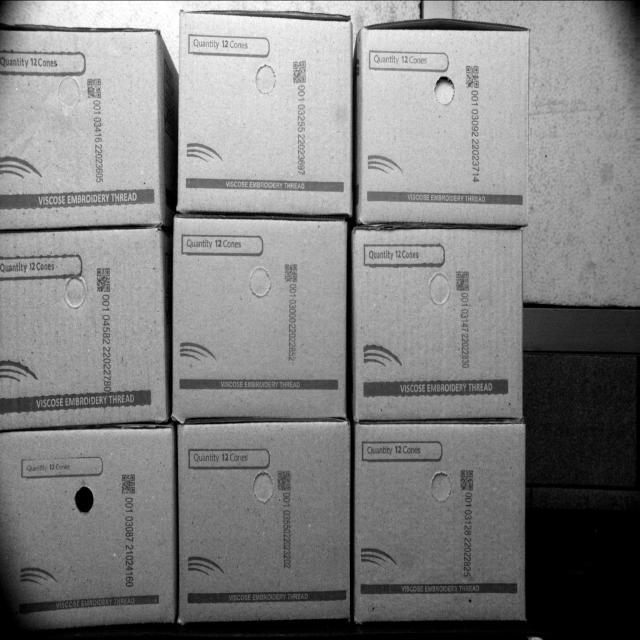box: (178, 11, 354, 213), (0, 428, 174, 632), (359, 26, 532, 224), (182, 423, 352, 624), (358, 423, 528, 621), (175, 225, 348, 418), (0, 231, 167, 425), (0, 31, 163, 224), (353, 232, 522, 416), (0, 237, 163, 422)
